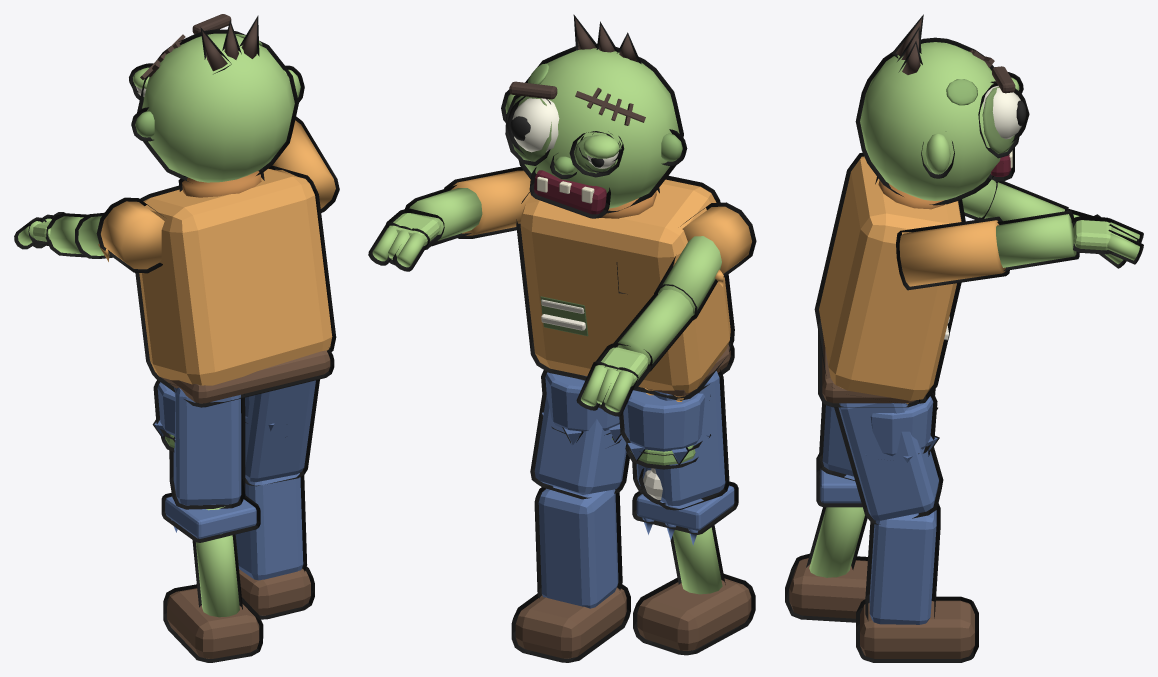
File: zombie_model.glb
3 renders of one model, left to right at view 1: azimuth 30°, elevation 25°; view 2: azimuth 150°, elevation 25°; view 3: azimuth 270°, elevation 25°, orthographic. The views are drawn at different scales.
Visible parts, largest first — view 1: Torso, Head, LegR, LegL, ArmR, ArmL, Stumps; view 2: Torso, Head, LegL, LegR, ArmR, Stumps, ArmL; view 3: Torso, Head, LegL, ArmL, LegR, ArmR, Stumps.
Boxes of the visible parts, bbox=[...] form: Torso: bbox=[135, 165, 336, 407]; Head: bbox=[129, 14, 304, 182]; LegR: bbox=[161, 387, 263, 662]; LegL: bbox=[235, 379, 319, 619]; ArmR: bbox=[14, 197, 164, 273]; ArmL: bbox=[272, 116, 339, 212]; Stumps: bbox=[152, 380, 285, 452]; Torso: bbox=[516, 175, 734, 401]; Head: bbox=[501, 14, 687, 218]; LegL: bbox=[511, 371, 630, 662]; LegR: bbox=[632, 369, 755, 655]; ArmR: bbox=[576, 202, 756, 416]; Stumps: bbox=[541, 370, 710, 504]; ArmL: bbox=[368, 167, 531, 271]; Torso: bbox=[814, 152, 965, 407]; Head: bbox=[855, 14, 1029, 205]; LegL: bbox=[834, 403, 978, 662]; ArmL: bbox=[896, 210, 1143, 290]; LegR: bbox=[785, 402, 867, 622]; ArmR: bbox=[962, 179, 1126, 268]; Stumps: bbox=[865, 389, 939, 462].
Size of the model in its own units: 0.8084 by 1.88 by 0.9991.
